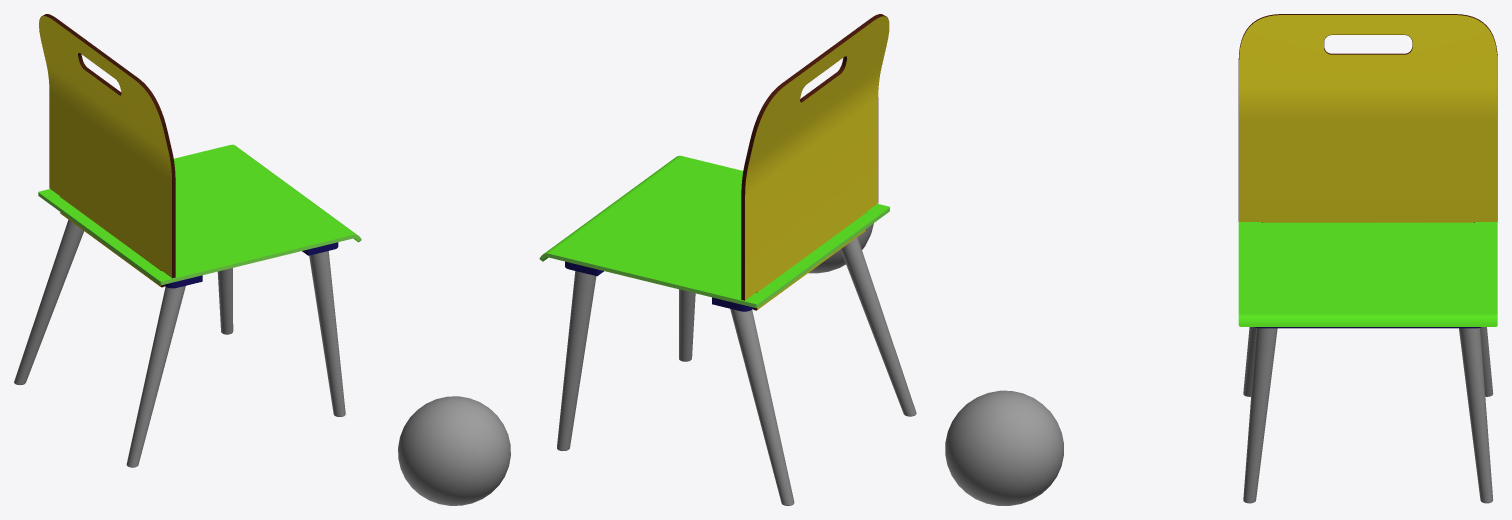
Rendered from stul.fbx.
3 renders of one model, left to right at view 1: azimuth 30°, elevation 25°; view 2: azimuth 150°, elevation 25°; view 3: azimuth 270°, elevation 25°, orthographic. The views are drawn at different scales.
Visible parts, largest first — view 1: Line002, Line001, Sphere001, Line003; view 2: Line002, Line001, Line003, Sphere001, Rectangle002; view 3: Line002, Line001, Sphere001, Line003.
Boxes of the visible parts, x1=… form: Line002: x1=39, y1=14, x2=175, y2=287; Line001: x1=38, y1=144, x2=361, y2=285; Sphere001: x1=398, y1=396, x2=510, y2=505; Line003: x1=14, y1=219, x2=345, y2=467; Line002: x1=741, y1=14, x2=889, y2=310; Line001: x1=539, y1=155, x2=889, y2=307; Line003: x1=557, y1=237, x2=916, y2=505; Sphere001: x1=808, y1=223, x2=873, y2=273; Rectangle002: x1=565, y1=261, x2=753, y2=311; Line002: x1=1238, y1=14, x2=1497, y2=222; Line001: x1=1238, y1=222, x2=1497, y2=326; Sphere001: x1=945, y1=390, x2=1063, y2=505; Line003: x1=1243, y1=327, x2=1493, y2=503.
Bounding box in the file's own units: 382 × 522 × 669.
